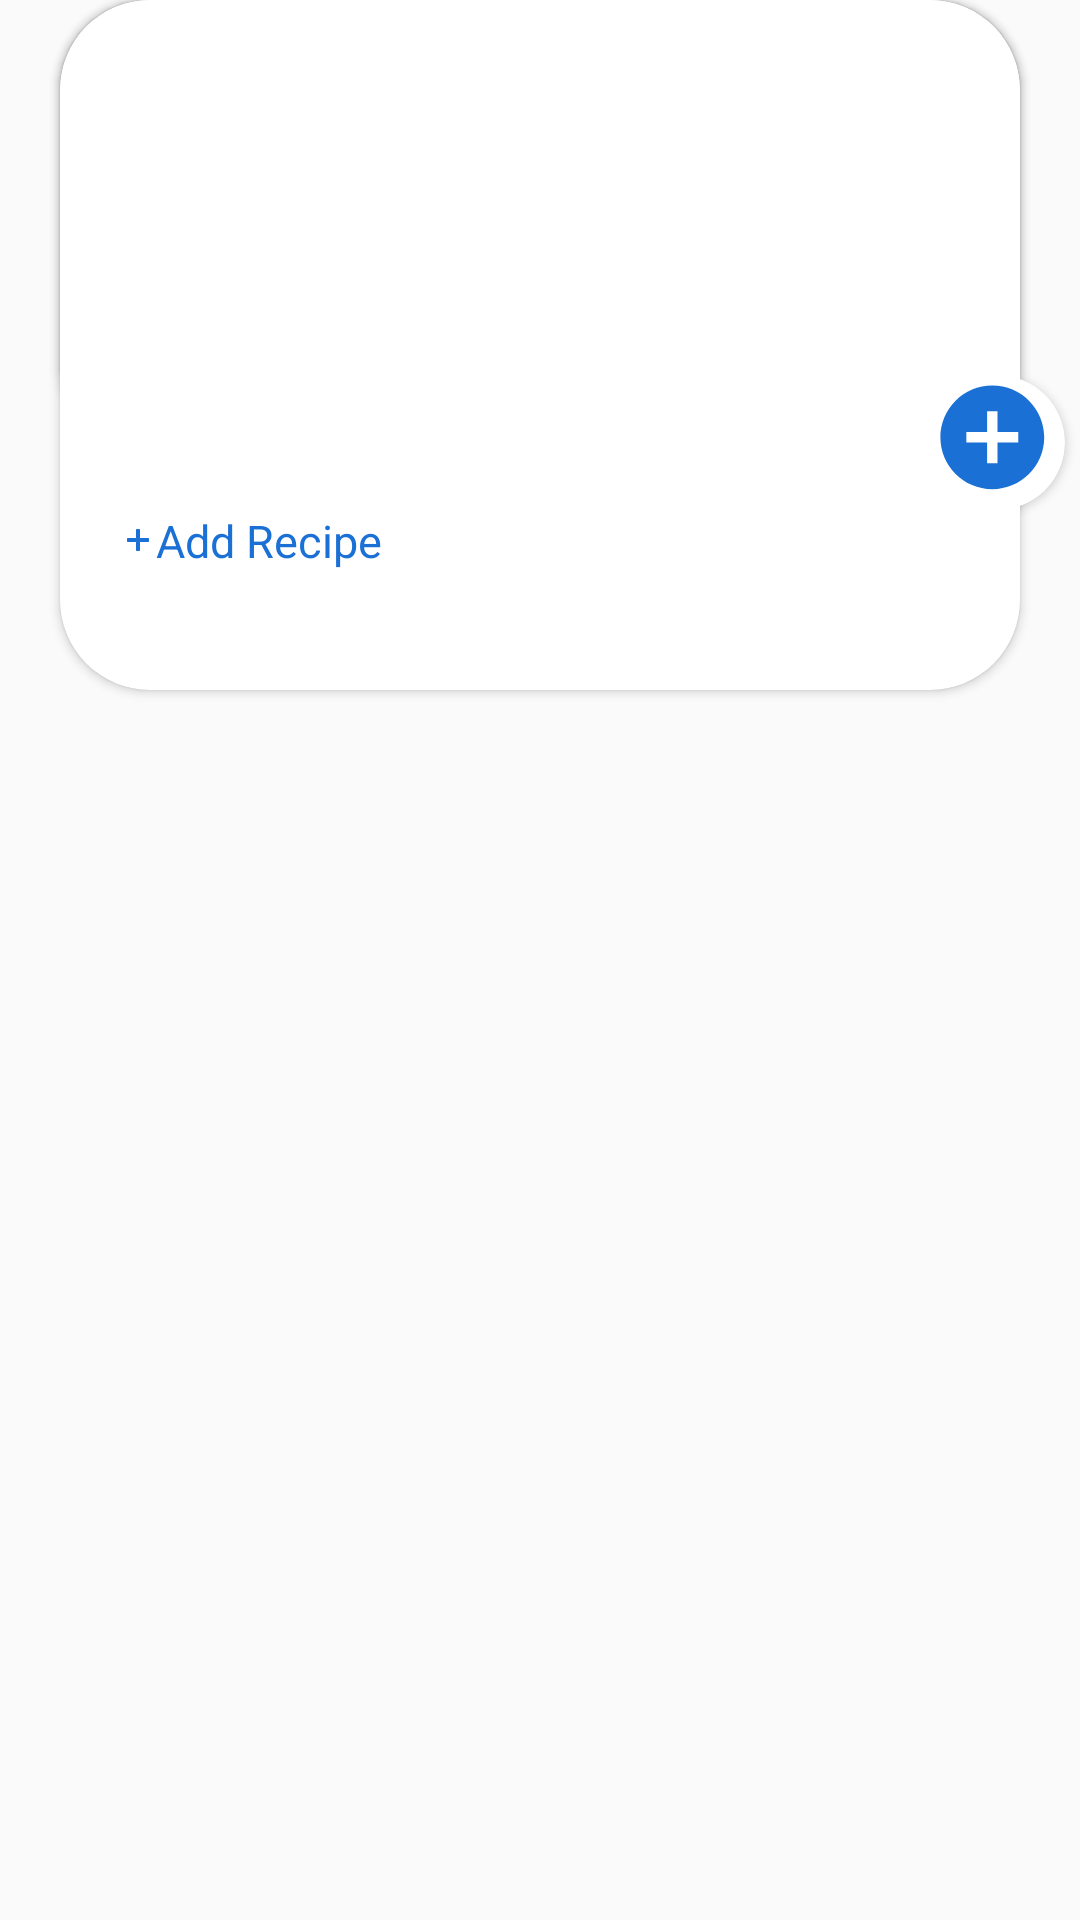

Where icons sit on this 1080px x 1920px app screen, as bbox=[x1, y1, x2, y2]:
add circle: bbox=[940, 385, 1065, 490]
